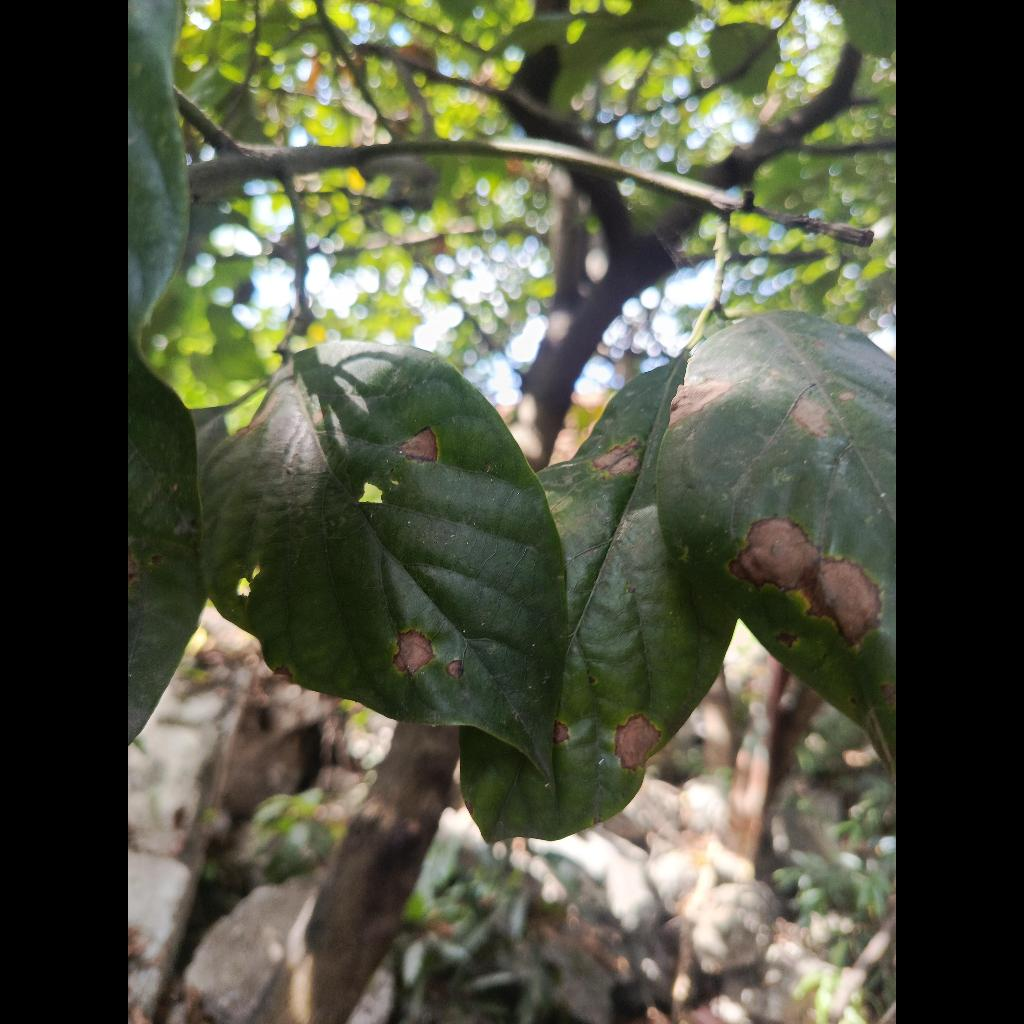antracnosis_hoja: (658, 313, 896, 773)
